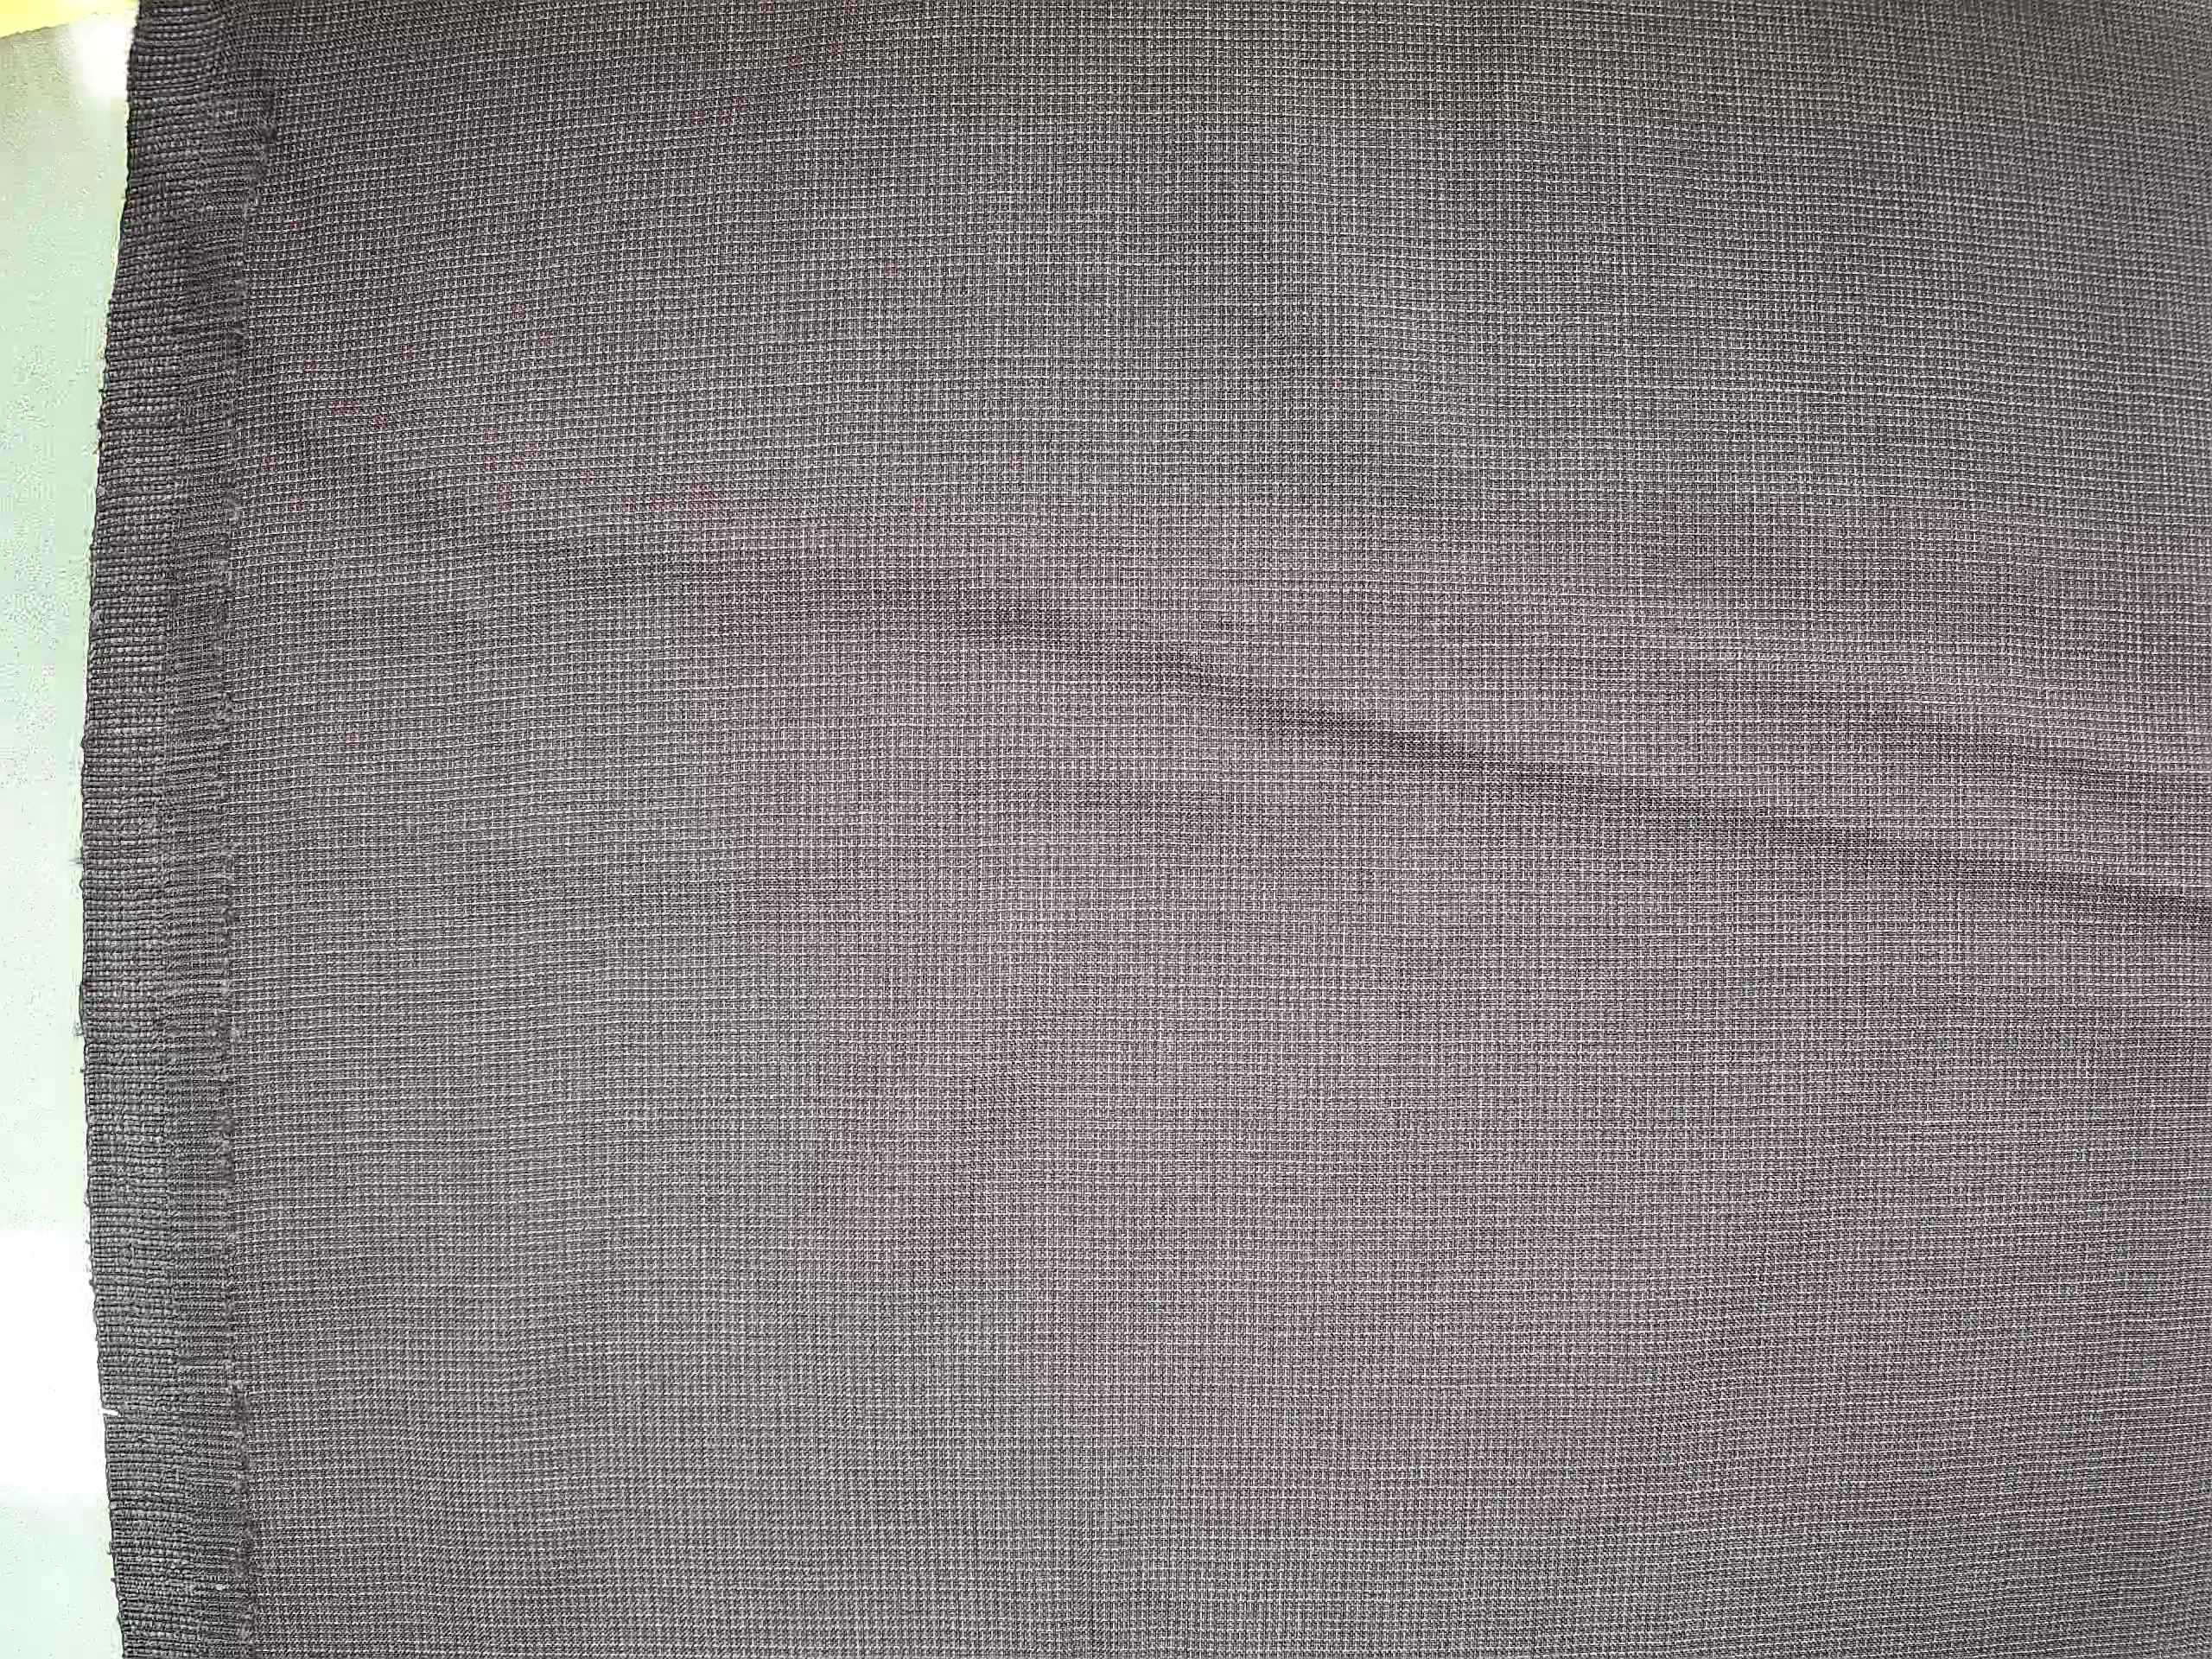others: (193, 101, 296, 1603)
